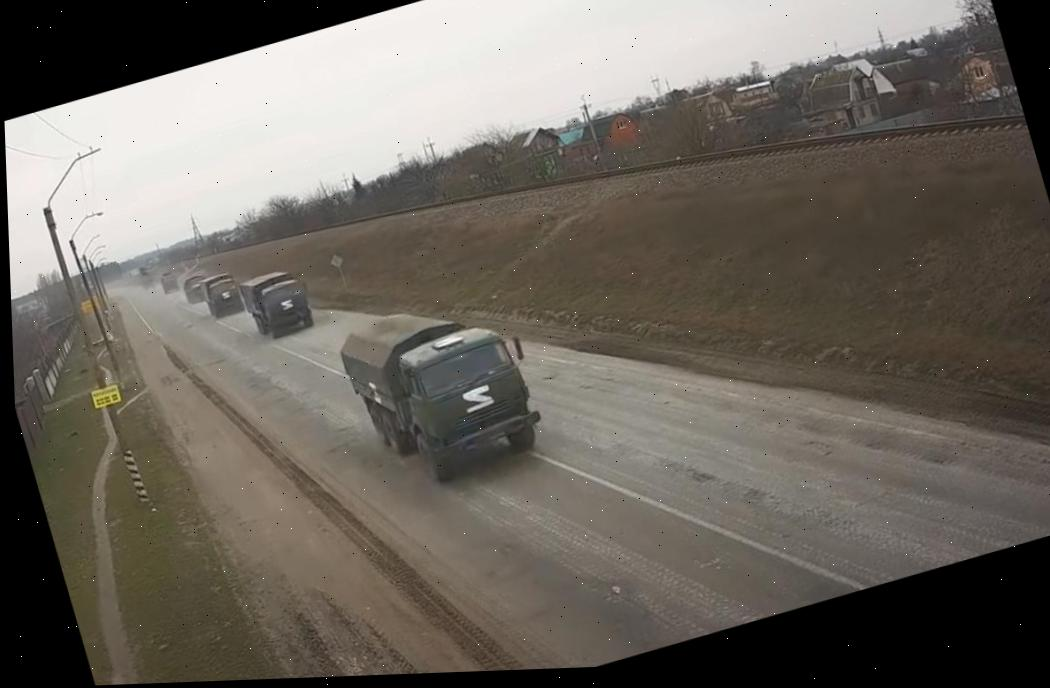truck: (326, 274, 551, 502), (230, 253, 325, 347), (198, 265, 246, 325), (177, 269, 213, 311), (155, 266, 182, 295)
